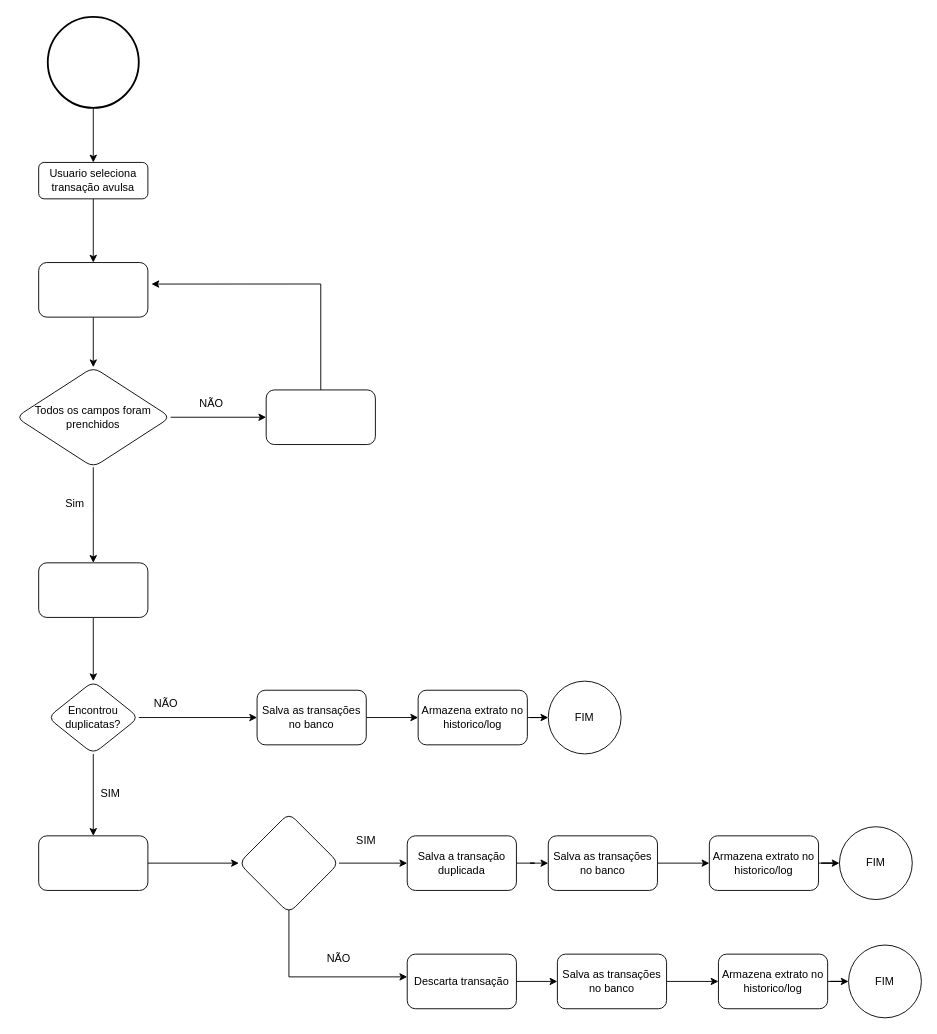
Image size: 937x1034. Some labels were removed from this diagram. Each missing label, with the box of its shape:
Exibe alerta de duplicata: (38, 835, 148, 890)
Exibe mensagem de erro nos campos: (265, 389, 375, 445)
INICIO: (46, 15, 139, 108)
Preenche campos obrigatorios: (38, 262, 148, 317)
Sistema verifica duplicatas: (38, 562, 148, 617)
Usuario deseja manter?: (238, 812, 339, 913)
